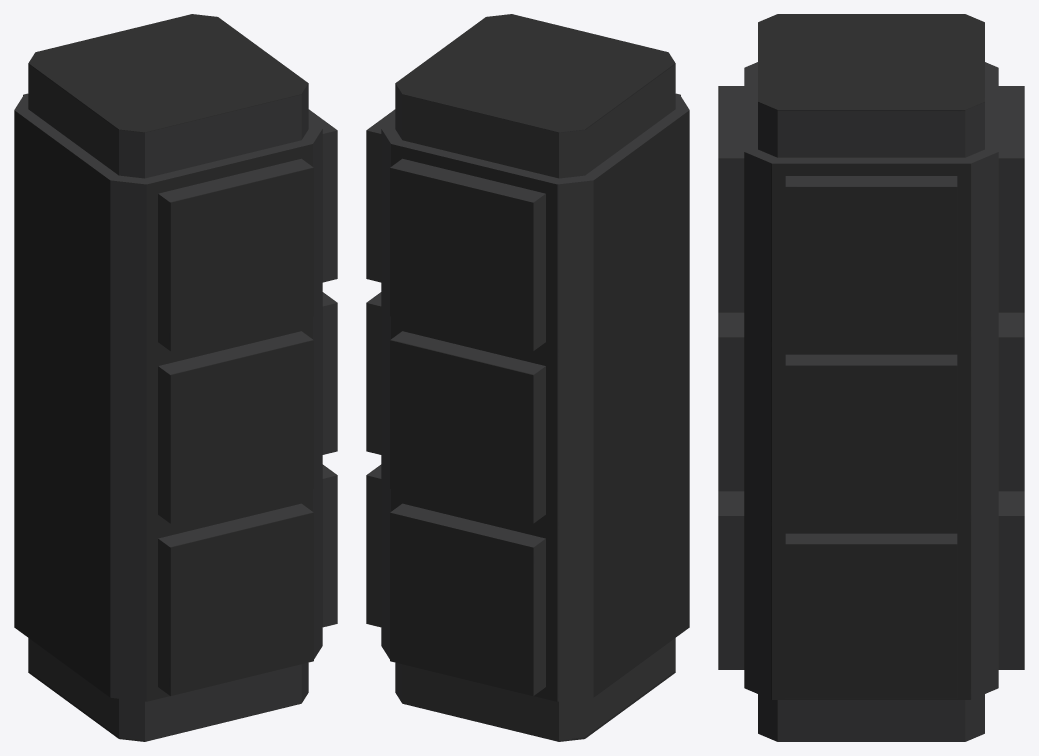
File: ThreeSidedPillar.fbx
The picture shows the model from 3 angles, left to right: view 1: azimuth 30°, elevation 25°; view 2: azimuth 150°, elevation 25°; view 3: azimuth 270°, elevation 25°; orthographic projection. The views are drawn at different scales.
Parts seen in each view (by area): view 1: ThreeSidedPillar; view 2: ThreeSidedPillar; view 3: ThreeSidedPillar.
Part boxes in pixels (bbox=[...]): ThreeSidedPillar: bbox=[14, 14, 337, 741]; ThreeSidedPillar: bbox=[366, 14, 689, 741]; ThreeSidedPillar: bbox=[718, 14, 1024, 741].
Bounding box in the file's own units: 114 × 285 × 125.
